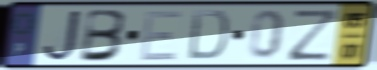0: (248, 7, 287, 63)
B: (77, 8, 130, 64)
D: (185, 8, 231, 62)
E: (137, 8, 185, 63)
J: (40, 8, 85, 64)
Z: (286, 8, 341, 63)
